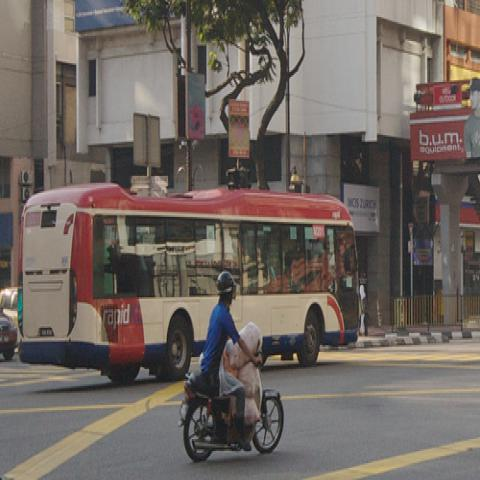bus: (15, 179, 365, 385)
car: (0, 288, 21, 347), (0, 313, 19, 361)
motorcycle: (178, 368, 285, 462)
